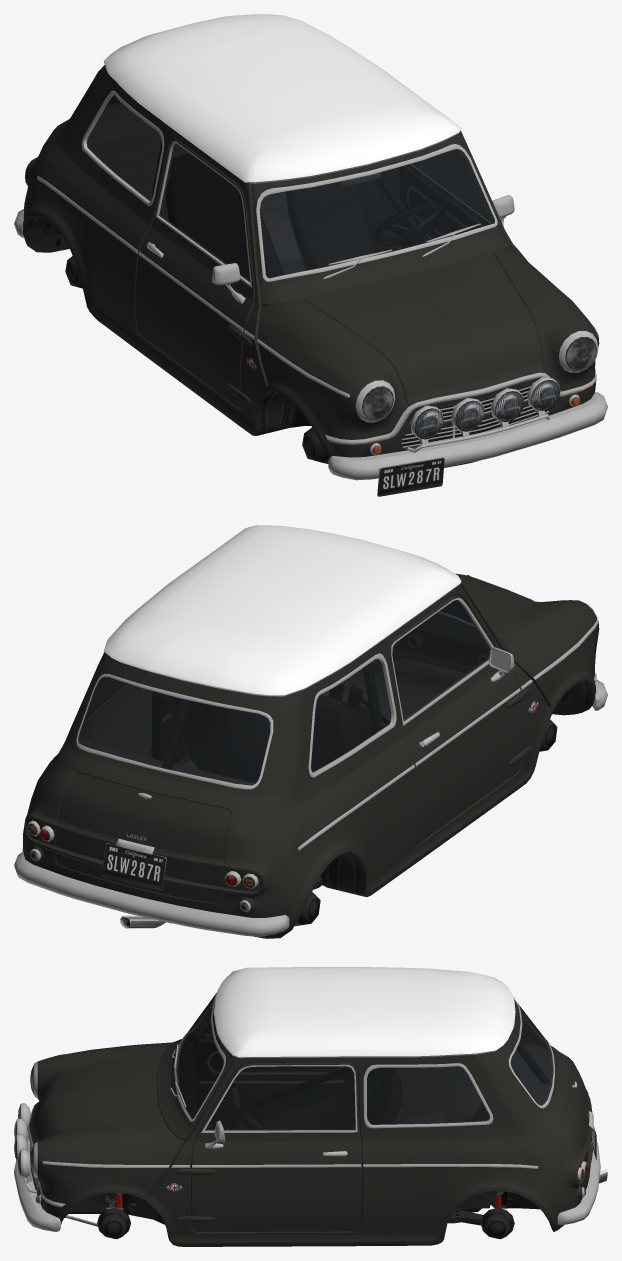
Rendered from lasley.glb.
3 views of the same model, one above another, from view 1: azimuth 30°, elevation 25°; view 2: azimuth 150°, elevation 25°; view 3: azimuth 270°, elevation 25° (orthographic). The views are drawn at different scales.
Parts seen in each view (by area): view 1: part0, part1, part3, part2, part6, part7; view 2: part0, part1, part3, part2, part7; view 3: part0, part1, part3, part2.
Boxes of the visible parts, x1=… form: part0: x1=22, y1=65, x2=599, y2=467; part1: x1=14, y1=14, x2=607, y2=480; part3: x1=86, y1=95, x2=596, y2=419; part2: x1=88, y1=96, x2=493, y2=279; part6: x1=362, y1=337, x2=596, y2=439; part7: x1=377, y1=457, x2=444, y2=496; part0: x1=22, y1=573, x2=599, y2=938; part1: x1=14, y1=525, x2=607, y2=936; part3: x1=78, y1=600, x2=491, y2=785; part2: x1=80, y1=613, x2=489, y2=784; part7: x1=102, y1=843, x2=166, y2=890; part0: x1=28, y1=1000, x2=592, y2=1246; part1: x1=14, y1=967, x2=607, y2=1239; part3: x1=30, y1=993, x2=553, y2=1174; part2: x1=178, y1=1007, x2=550, y2=1129.
Bounding box in the file's own units: 1.47 × 1.19 × 3.12.
Materials: 9 (8 with a texture image).
